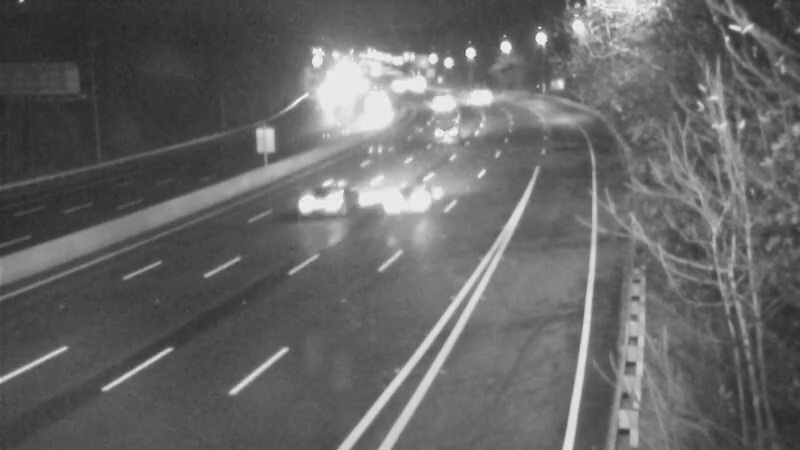vehicle: (372, 162, 452, 242), (281, 155, 361, 235), (456, 69, 506, 119), (415, 78, 465, 128), (417, 107, 467, 157), (346, 87, 396, 137)
